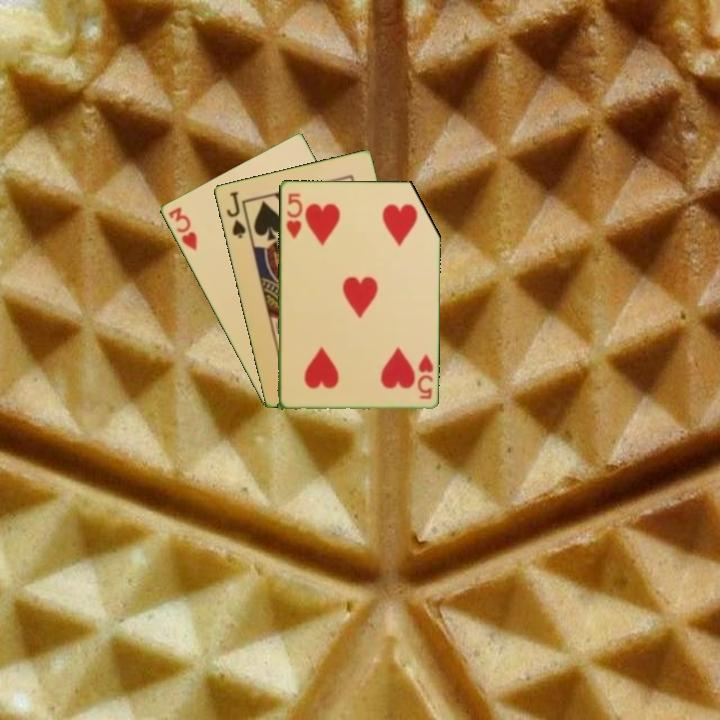3h: (164, 203, 200, 253)
5h: (282, 189, 305, 241), (414, 350, 436, 402)
Js: (223, 188, 248, 241)
